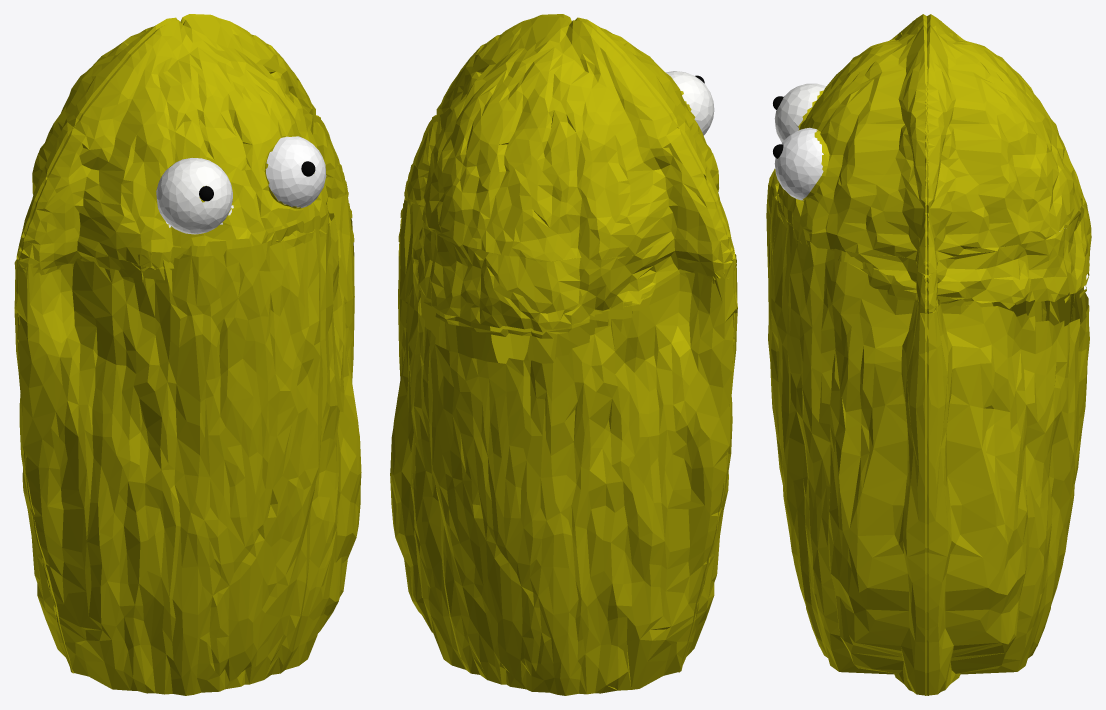
Rendered from 高坚果.glb.
3 views of the same model, side by side, from view 1: azimuth 30°, elevation 25°; view 2: azimuth 150°, elevation 25°; view 3: azimuth 270°, elevation 25° (orthographic). The views are drawn at different scales.
Parts seen in each view (by area): view 1: .archWalnut, .archWalnut.001, .archWalnut.002; view 2: .archWalnut, .archWalnut.001; view 3: .archWalnut, .archWalnut.002, .archWalnut.001.
Part boxes in pixels (<box>): .archWalnut: <box>14,14,361,695</box>; .archWalnut.001: <box>156,158,233,234</box>; .archWalnut.002: <box>265,136,326,207</box>; .archWalnut: <box>390,14,737,695</box>; .archWalnut.001: <box>666,71,714,135</box>; .archWalnut: <box>766,14,1091,695</box>; .archWalnut.002: <box>774,127,823,200</box>; .archWalnut.001: <box>774,83,825,142</box>.
Size of the model in its own units: 0.9799 by 1.74 by 0.8389.
